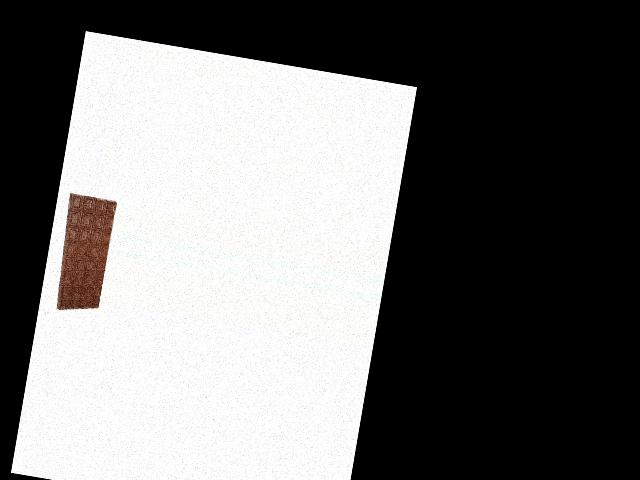chocolate: (51, 192, 117, 317)
